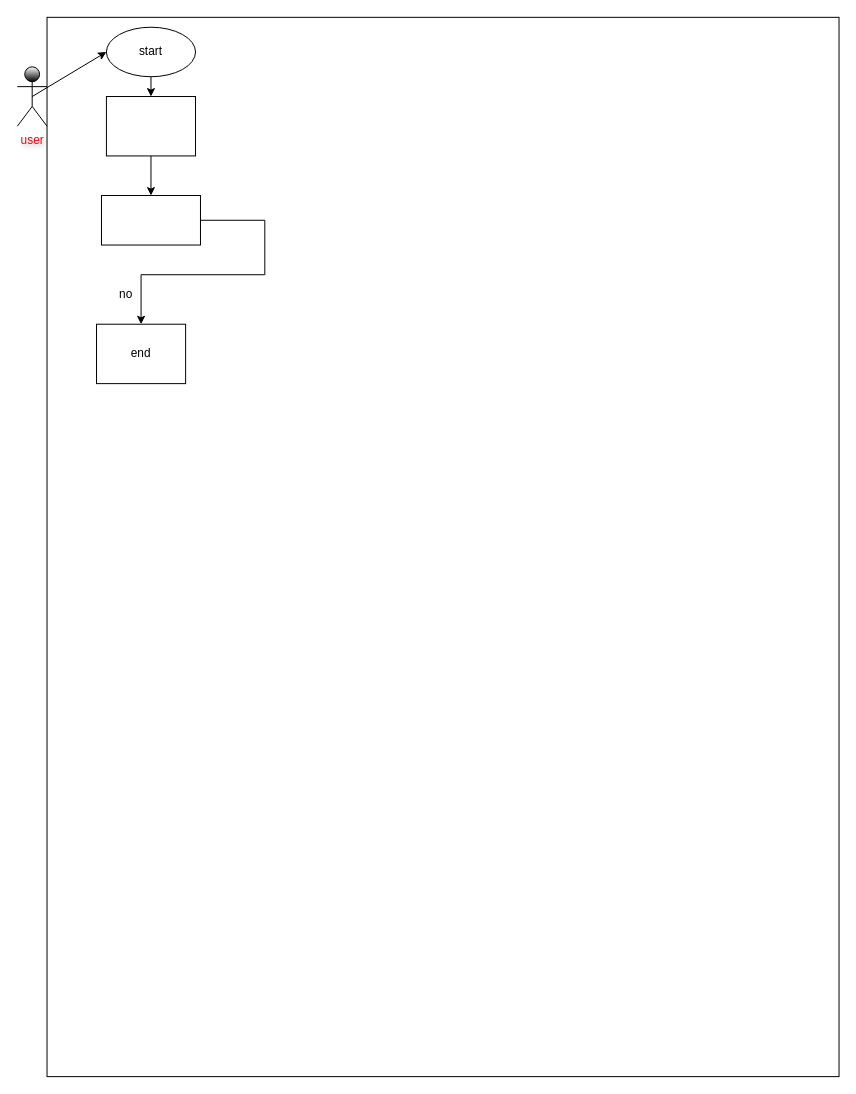
This 856x1094 diagram has some shape labels left out. The centre of each missing label's shape, as x and y in pixels:
browse: (150,126)
login: (150,220)
